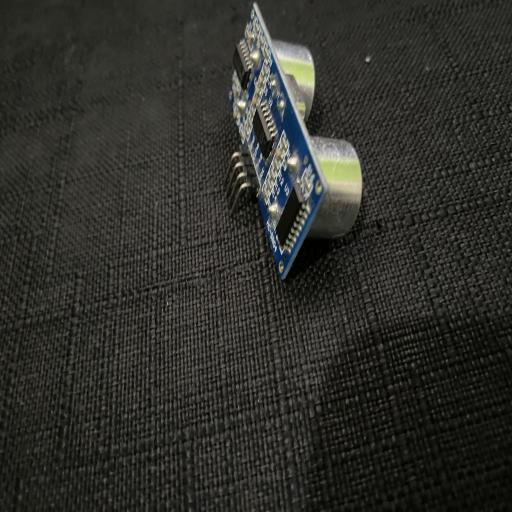Ultrasonic Sensor: (224, 1, 363, 281)
